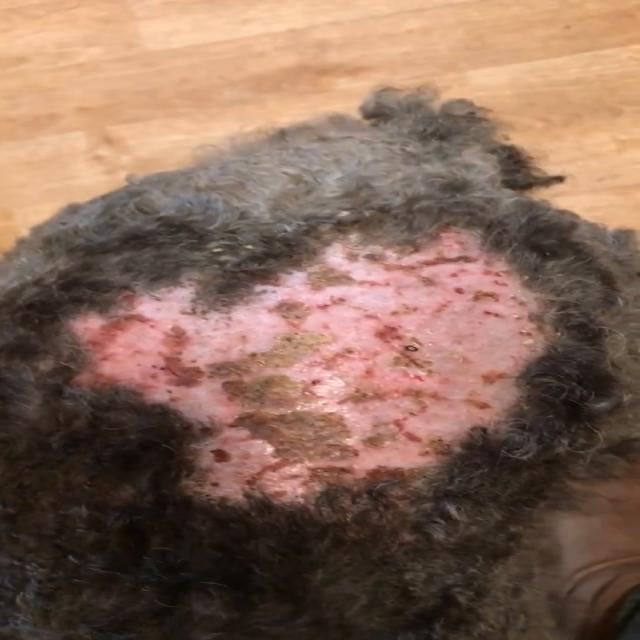allergic dermatitis: (68, 212, 549, 525)
